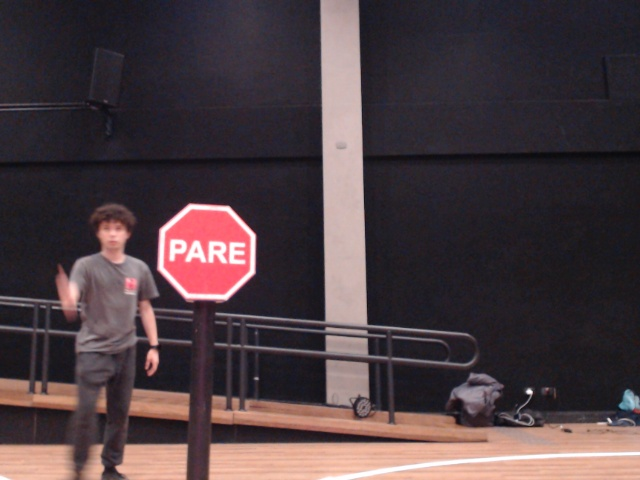SEMAFORO: (146, 193, 287, 323)
